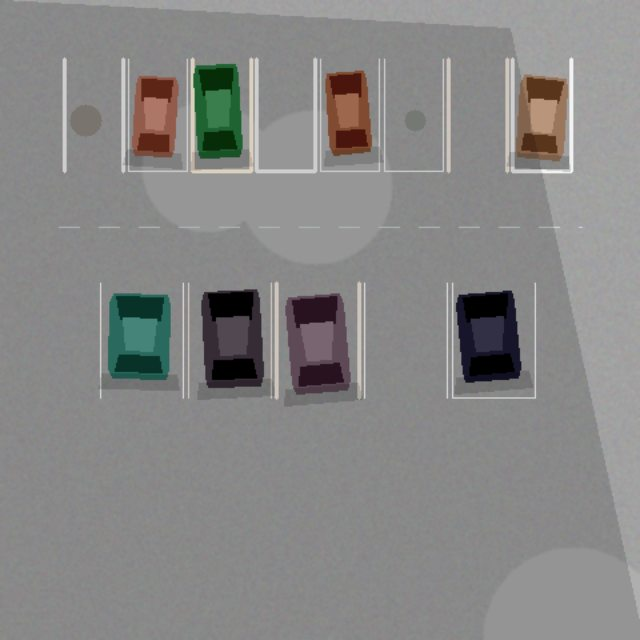space-empty: (364, 283, 447, 397), (64, 59, 123, 171), (256, 59, 315, 171), (384, 59, 443, 171), (448, 59, 507, 171)
space-occupied: (100, 283, 183, 397), (188, 283, 271, 397), (276, 283, 359, 397), (452, 283, 535, 397), (128, 59, 187, 171), (192, 59, 251, 171), (320, 59, 379, 171), (512, 59, 571, 171)
